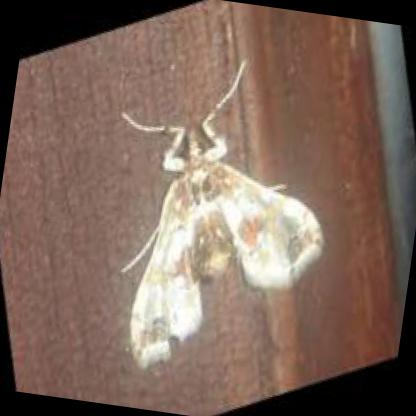leucinodes: (128, 125, 323, 366)
